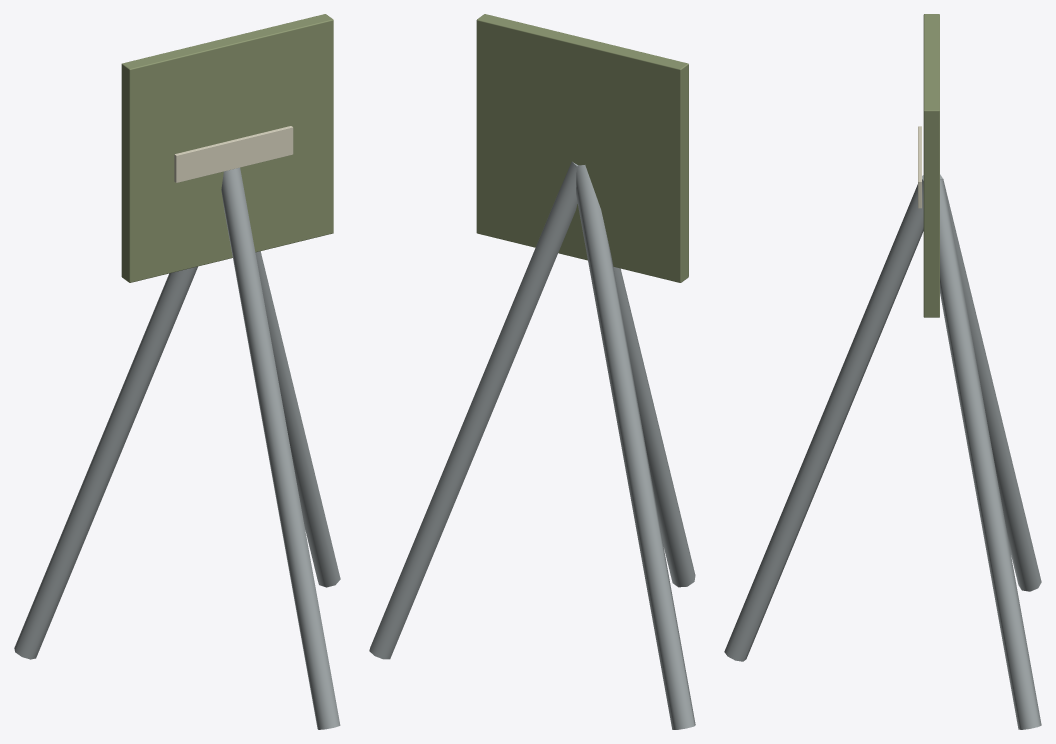
Rendered from extraction-routes-and-objectives-route-marker-tripod-83e160d1__22133.glb.
The picture shows the model from 3 angles, left to right: view 1: azimuth 30°, elevation 25°; view 2: azimuth 150°, elevation 25°; view 3: azimuth 270°, elevation 25°; orthographic projection. The views are drawn at different scales.
Visible parts, largest first — view 1: route-marker-tripod; view 2: route-marker-tripod; view 3: route-marker-tripod.
Boxes of the visible parts, <box> form: route-marker-tripod: <box>14,14,340,729</box>; route-marker-tripod: <box>369,14,695,729</box>; route-marker-tripod: <box>724,14,1041,729</box>.
Size of the model in its own units: 0.5538 by 1.01 by 0.4847.
